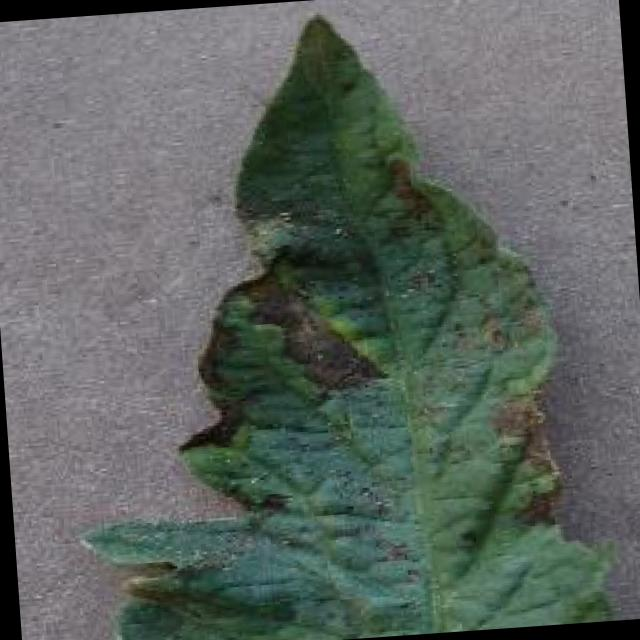Tomato_Early_Blight: (100, 0, 583, 584)
